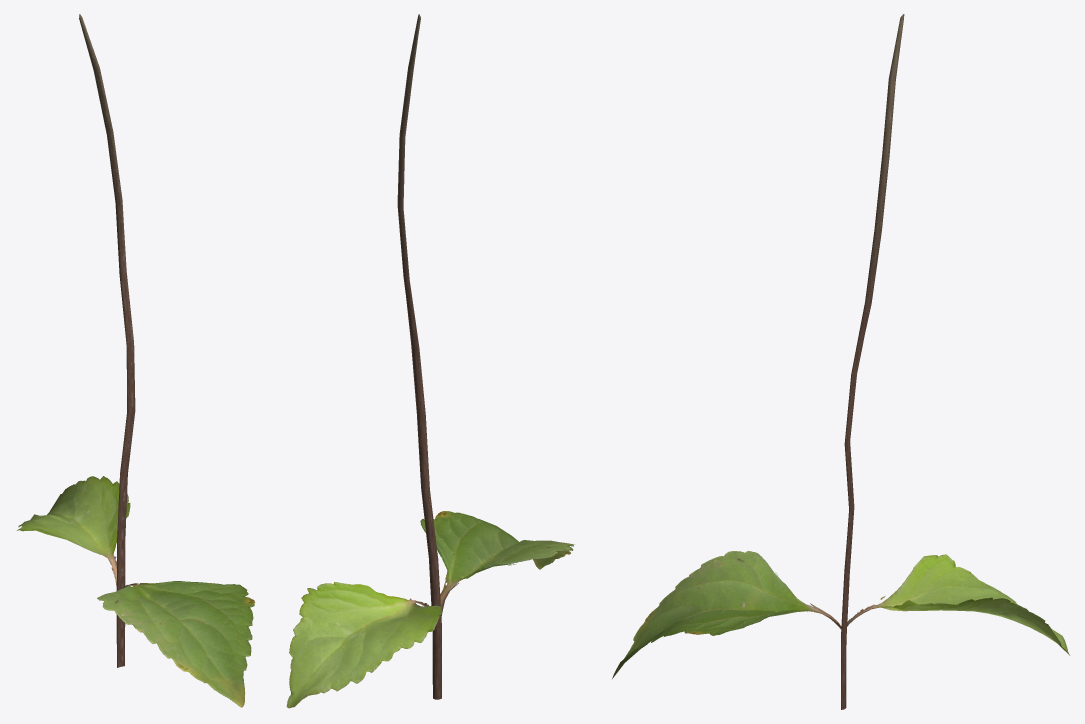
The model's file is Herb Shrub C.glb.
3 renders of one model, left to right at view 1: azimuth 30°, elevation 25°; view 2: azimuth 150°, elevation 25°; view 3: azimuth 270°, elevation 25°, orthographic. The views are drawn at different scales.
Visible parts, largest first — view 1: Herb Shrub C; view 2: Herb Shrub C; view 3: Herb Shrub C.
Part boxes in pixels (x1,y1,x2,y2): Herb Shrub C: (17, 14, 255, 707); Herb Shrub C: (286, 14, 574, 708); Herb Shrub C: (612, 14, 1070, 709).
Size of the model in its own units: 0.2319 by 1 by 0.6079.
1 material, 1 textured.
